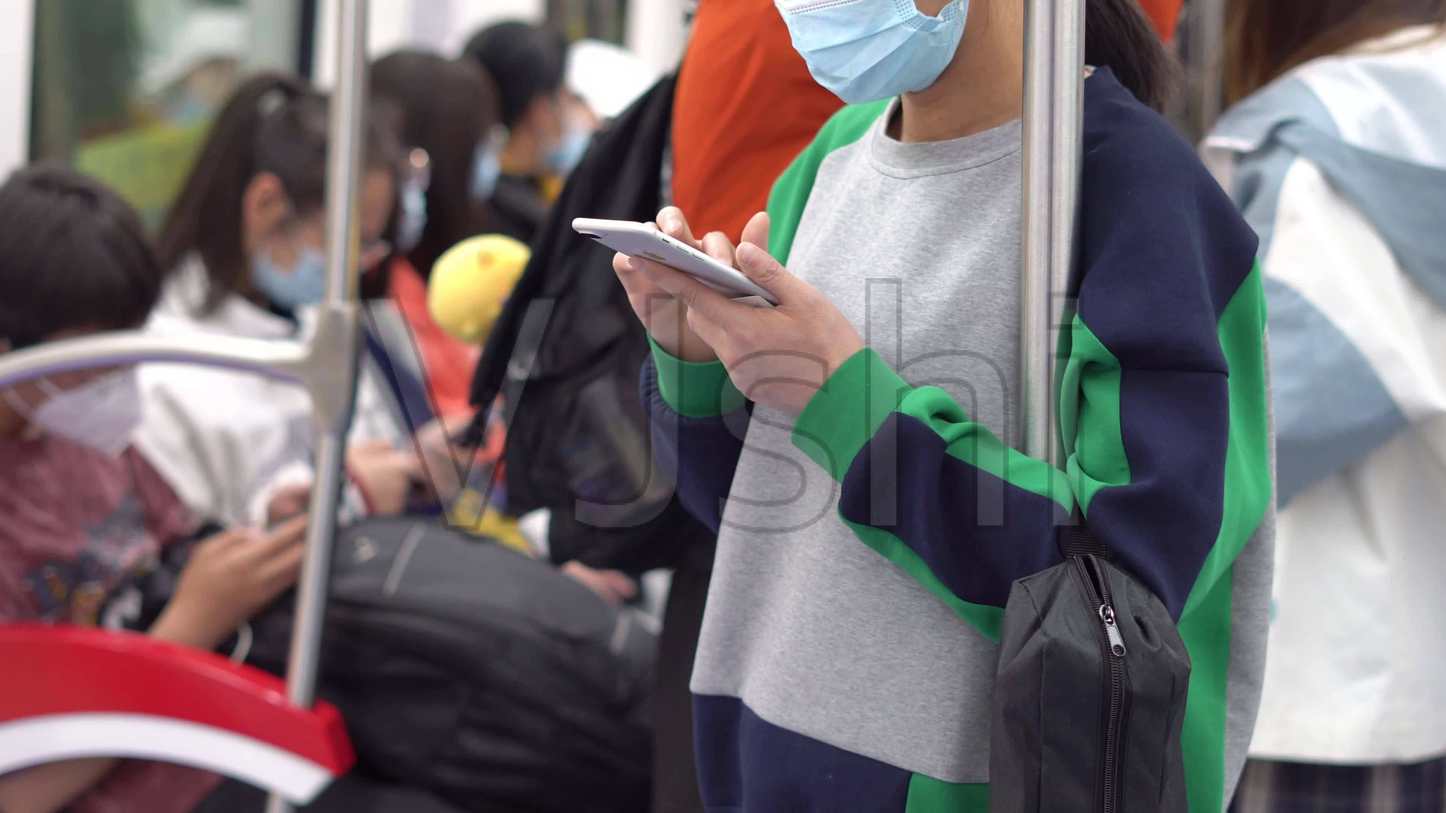Mobile-phone: (575, 207, 780, 322)
